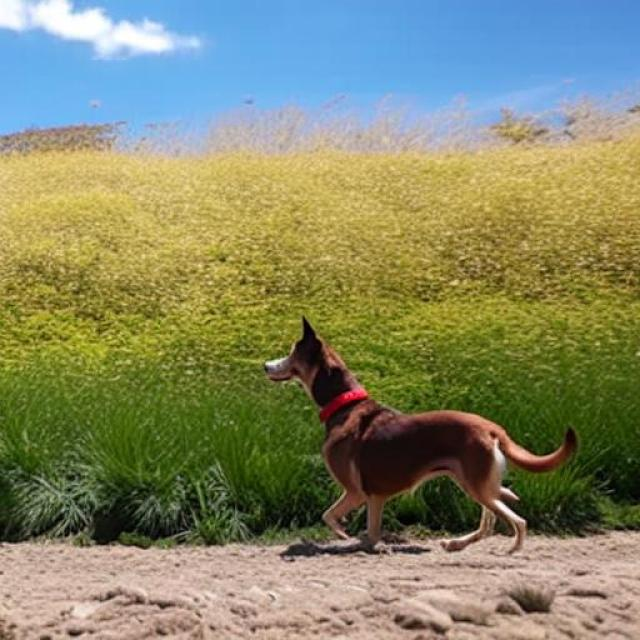Dog: (263, 317, 576, 555)
